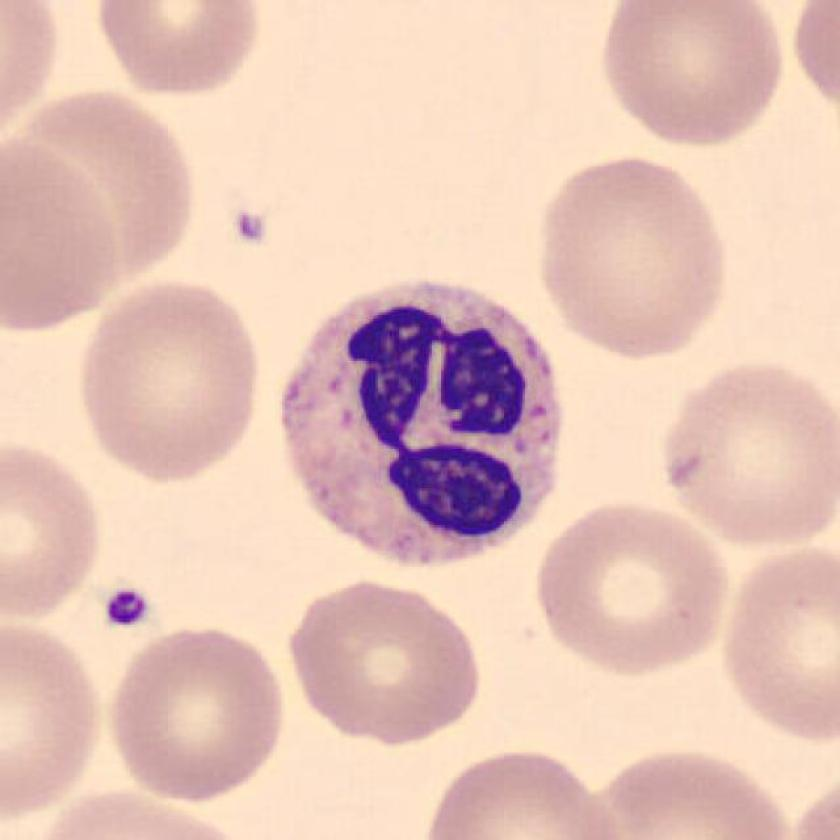neutrophil: (285, 281, 562, 566)
